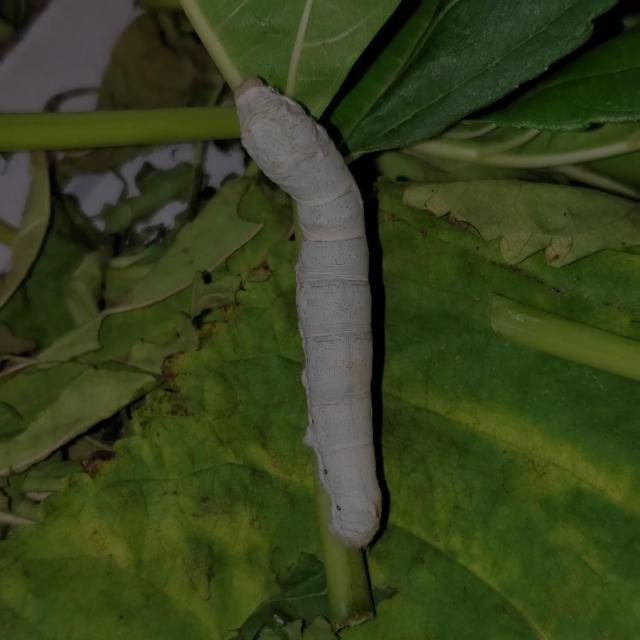Healthy: (221, 67, 399, 571)
